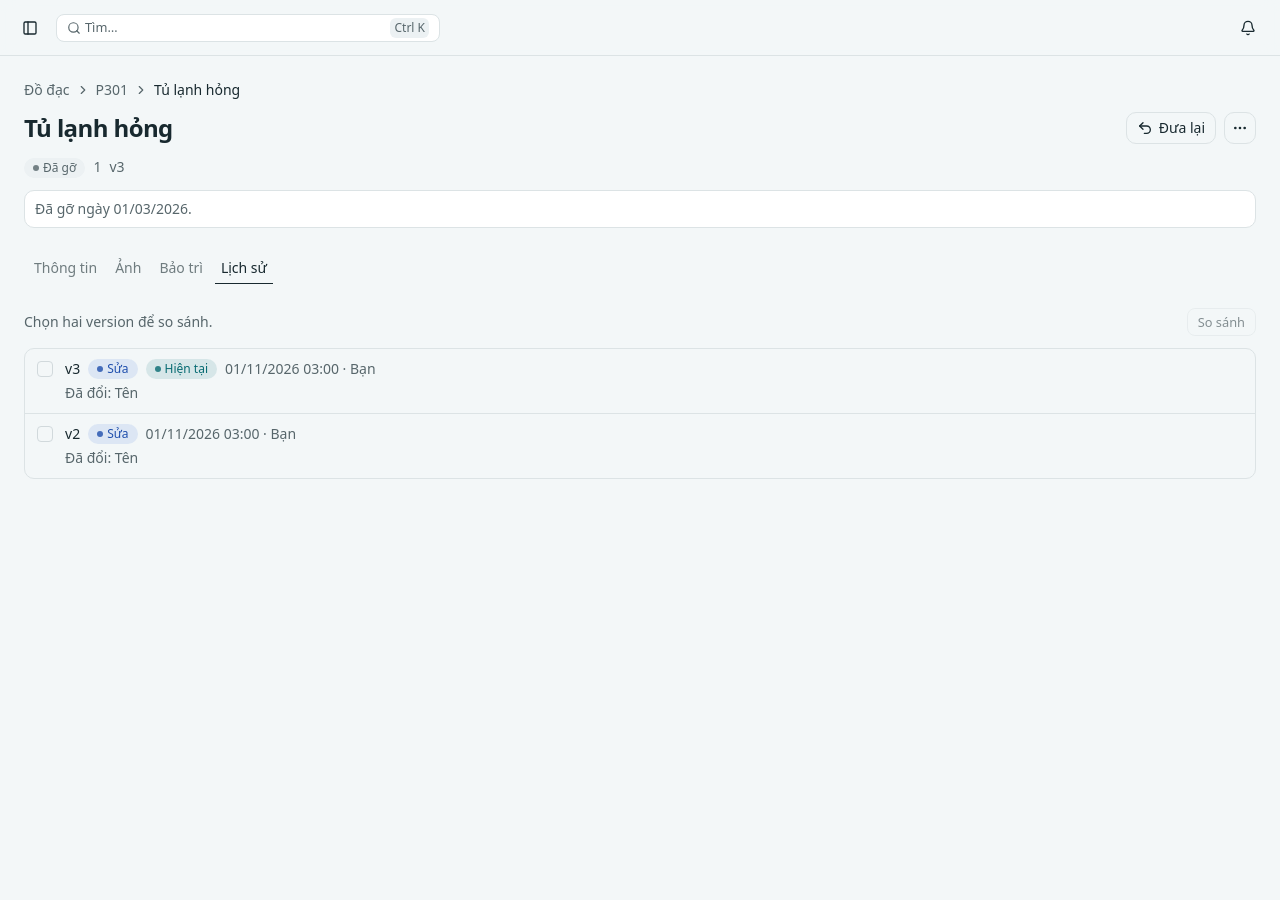
Scenario: itemHistoryRestoresContentOnly
Later steps or results of the test are not shown.
Click the button "v2".
click(113, 434)  # box [53,414,1255,478]
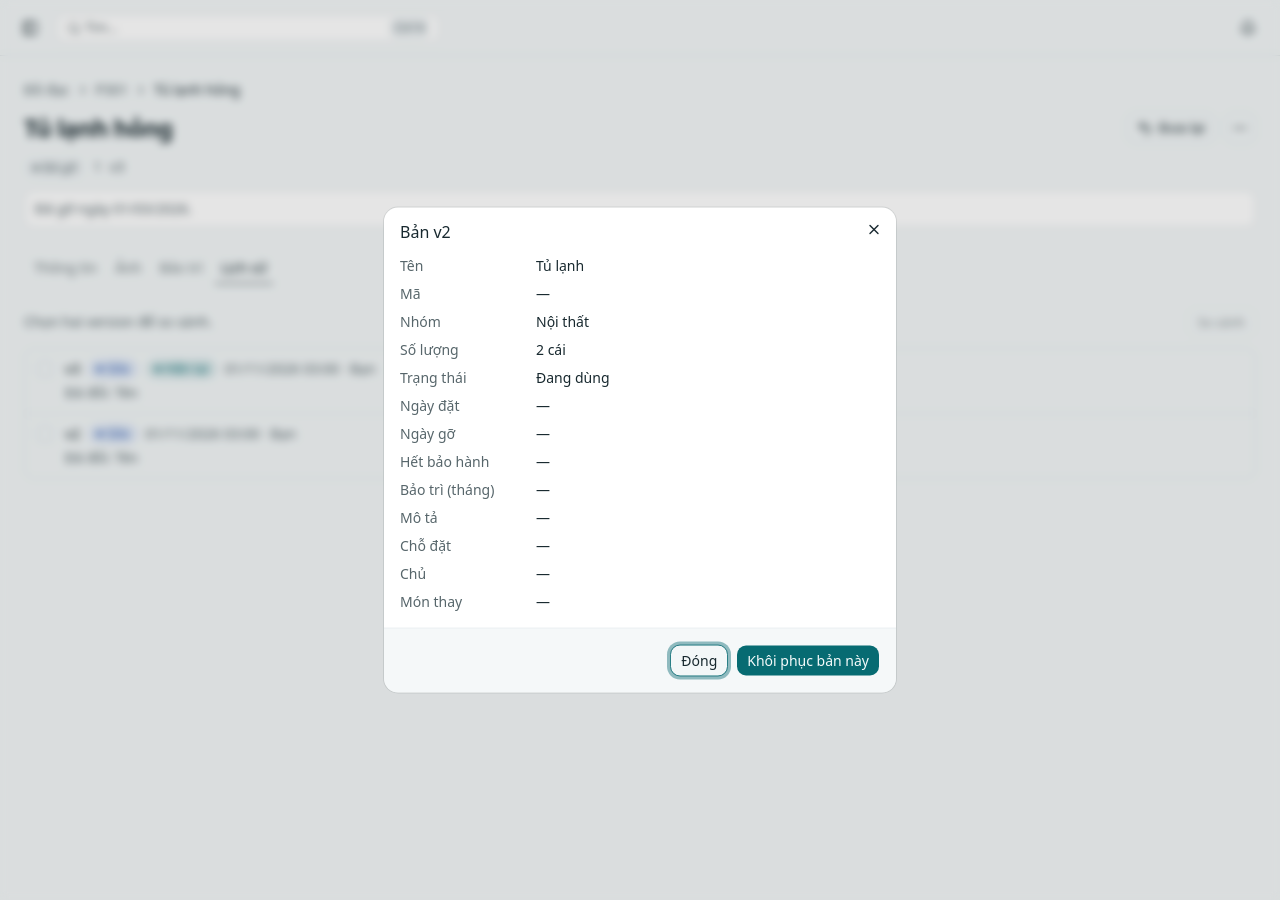
Expected: the text "2 cái" is shown, [536,340,566,358]
Expected: the text "Nội thất" is shown, [536,312,589,330]
